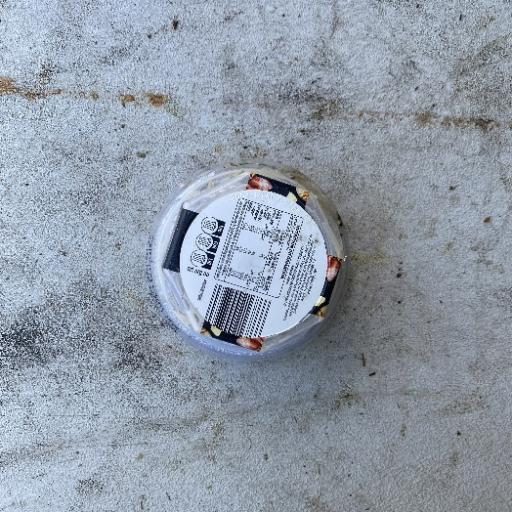Plastic: (146, 159, 350, 362)
